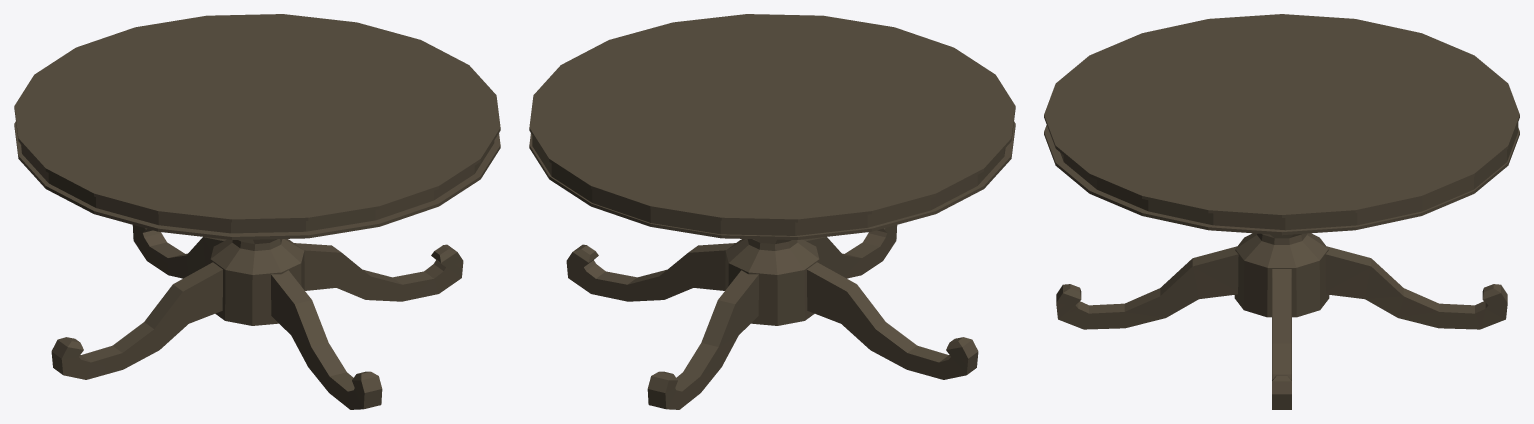
The model's file is coffee-table.glb.
The picture shows the model from 3 angles, left to right: view 1: azimuth 30°, elevation 25°; view 2: azimuth 150°, elevation 25°; view 3: azimuth 270°, elevation 25°; orthographic projection. The views are drawn at different scales.
Visible parts, largest first — view 1: coffee-table; view 2: coffee-table; view 3: coffee-table.
Boxes of the visible parts, x1,y1,x2,y2 form: coffee-table: (14, 14, 500, 409); coffee-table: (529, 14, 1015, 409); coffee-table: (1044, 14, 1519, 409).
Size of the model in its own units: 0.9 by 0.44 by 0.9.
